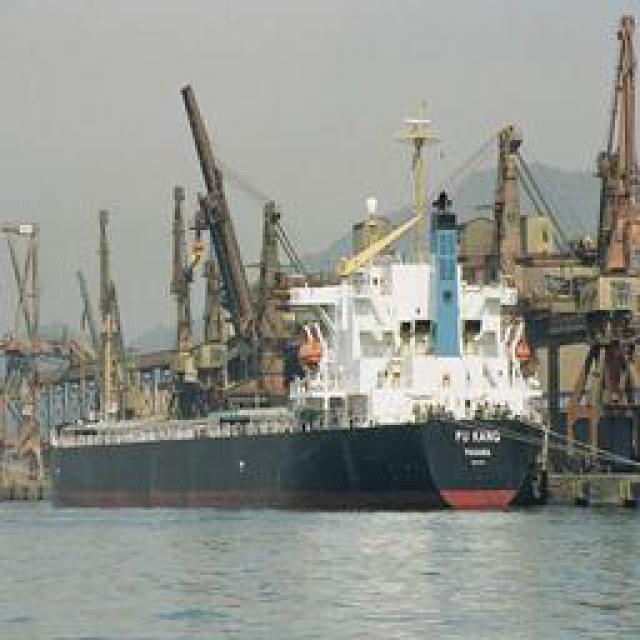Ship: (62, 81, 592, 511)
